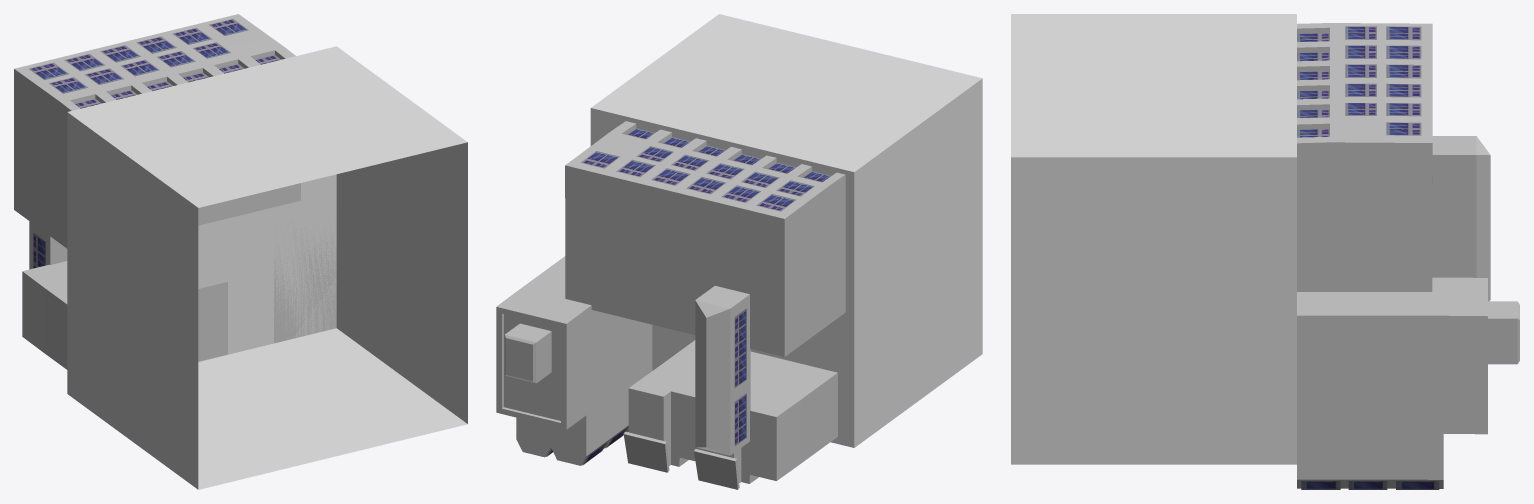
File: block_mixed_03.FBX
The picture shows the model from 3 angles, left to right: view 1: azimuth 30°, elevation 25°; view 2: azimuth 150°, elevation 25°; view 3: azimuth 270°, elevation 25°; orthographic projection. The views are drawn at different scales.
Parts seen in each view (by area): view 1: Plane002, building_commercial_3s, building_apartment_3s (×2), building_SmallCommercial_3s, addon_2; view 2: Plane002, building_commercial_3s, building_SmallCommercial_3s, building_apartment_3s (×2), addon_2; view 3: Plane002, building_SmallCommercial_3s, building_commercial_3s, addon_2.
Boxes of the visible parts, x1=… form: Plane002: x1=67, y1=46, x2=467, y2=489; building_commercial_3s: x1=14, y1=14, x2=300, y2=248; building_apartment_3s (×2): x1=22, y1=261, x2=227, y2=369; building_SmallCommercial_3s: x1=274, y1=218, x2=336, y2=343; addon_2: x1=29, y1=221, x2=67, y2=269; Plane002: x1=590, y1=14, x2=982, y2=447; building_commercial_3s: x1=565, y1=121, x2=845, y2=356; building_SmallCommercial_3s: x1=496, y1=256, x2=652, y2=465; building_apartment_3s (×2): x1=623, y1=340, x2=837, y2=489; addon_2: x1=695, y1=286, x2=750, y2=455; Plane002: x1=1011, y1=14, x2=1296, y2=464; building_SmallCommercial_3s: x1=1297, y1=277, x2=1519, y2=489; building_commercial_3s: x1=1297, y1=23, x2=1432, y2=291; addon_2: x1=1432, y1=136, x2=1490, y2=301.
Size of the model in its own units: 31 by 32.35 by 45.02.
